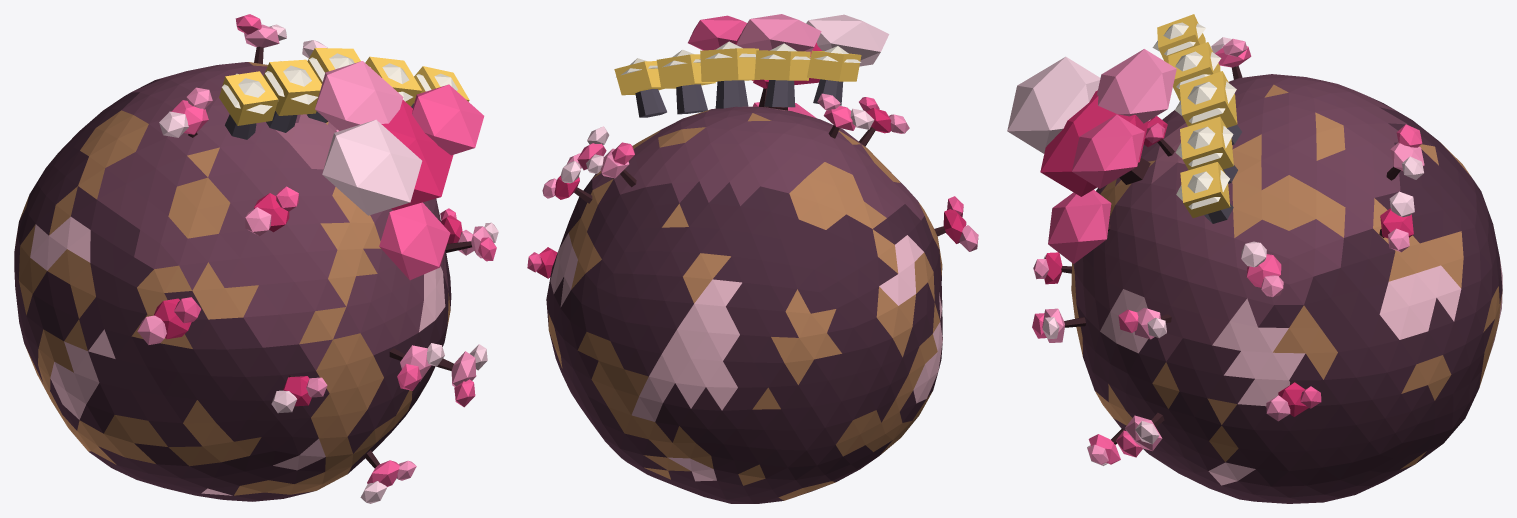
File: Sakura_05.fbx
3 views of the same model, side by side, from view 1: azimuth 30°, elevation 25°; view 2: azimuth 150°, elevation 25°; view 3: azimuth 270°, elevation 25° (orthographic). The views are drawn at different scales.
Visible parts, largest first — view 1: Sakura_05; view 2: Sakura_05; view 3: Sakura_05.
Boxes of the visible parts, left/top/right/bottom form: Sakura_05: left=14, top=14, right=498, bottom=503; Sakura_05: left=527, top=14, right=978, bottom=503; Sakura_05: left=1007, top=14, right=1502, bottom=503.
Size of the model in its own units: 6.69 by 6.83 by 6.92.
1 material, 1 textured.
